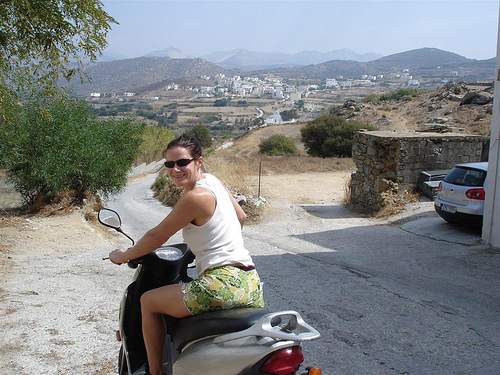without_mask: (159, 146, 208, 190)
